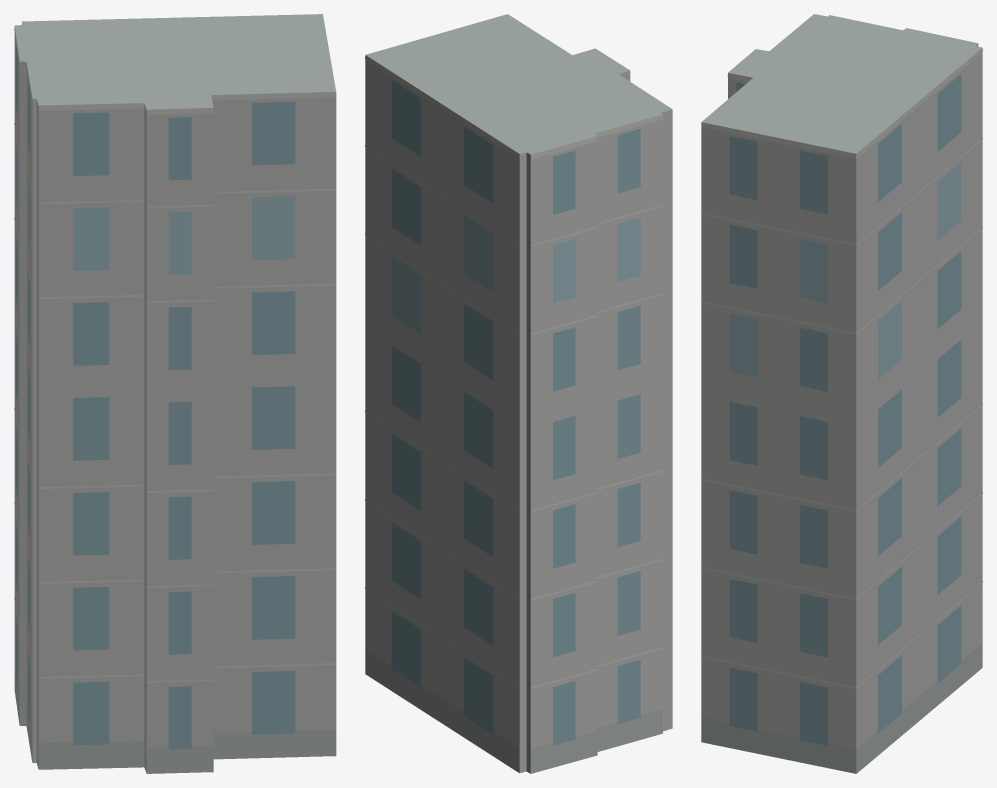
Rendered from survey-upis-32686075.glb.
3 renders of one model, left to right at view 1: azimuth 30°, elevation 25°; view 2: azimuth 150°, elevation 25°; view 3: azimuth 270°, elevation 25°, orthographic. The views are drawn at different scales.
Parts seen in each view (by area): view 1: survey-upis-32686075.tmp; view 2: survey-upis-32686075.tmp; view 3: survey-upis-32686075.tmp.
Boxes of the visible parts, box(x1,y1,x2,y2) form: survey-upis-32686075.tmp: box(14, 14, 336, 773); survey-upis-32686075.tmp: box(365, 14, 672, 773); survey-upis-32686075.tmp: box(701, 14, 982, 773).
Size of the model in its own units: 14.12 by 29.16 by 12.01.
